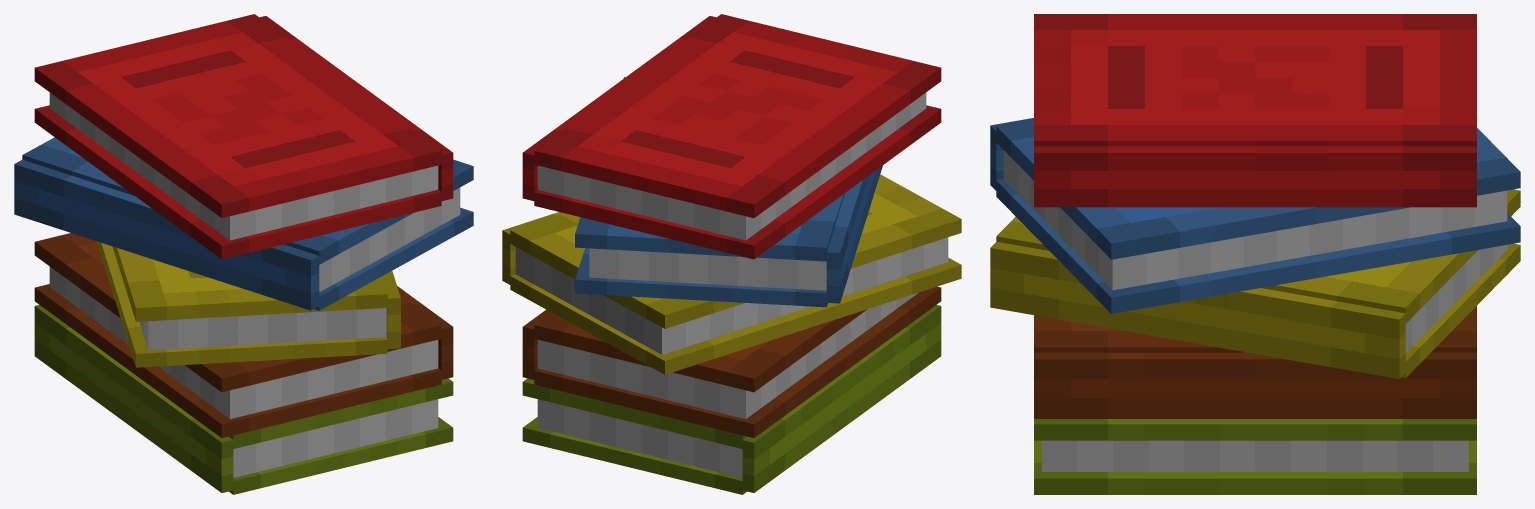
File: books.glb
3 renders of one model, left to right at view 1: azimuth 30°, elevation 25°; view 2: azimuth 150°, elevation 25°; view 3: azimuth 270°, elevation 25°, orthographic. The views are drawn at different scales.
Visible parts, largest first — view 1: a97b5972-1885-5dfc-1cd4-23fef182796c_3, aad3fd4e-fad0-5f00-a43b-05c0d2db1c12_4, c6a802c8-fc27-4c70-d7da-d765d4f95609_12, d42e0b9d-06c6-1f54-2575-b4977d464260_17, 98393dd3-45bb-6625-7c41-31f83be280f9_1, 121edf21-6fa9-25fc-c6bd-96b1828d26e6_19, c062d236-9276-9fc5-5c4b-7f556caee893_2, a7977a6c-cfcc-69fb-a5aa-bcc6b2773263_11, 13b3a0e8-063e-8dde-11ce-2f9e087bc196_18, 9303851b-aaac-106d-0ee0-b31c8177bbda_10, 60aa928b-8cf8-e269-2b2d-ef328b42e818_9, 5b12029c-da89-2c89-cbd8-f8571af06cd5_15 (+8 smaller); view 2: a97b5972-1885-5dfc-1cd4-23fef182796c_3, c6a802c8-fc27-4c70-d7da-d765d4f95609_12, a7977a6c-cfcc-69fb-a5aa-bcc6b2773263_11, 9303851b-aaac-106d-0ee0-b31c8177bbda_10, d42e0b9d-06c6-1f54-2575-b4977d464260_17, 60aa928b-8cf8-e269-2b2d-ef328b42e818_9, 98393dd3-45bb-6625-7c41-31f83be280f9_1, 121edf21-6fa9-25fc-c6bd-96b1828d26e6_19, c062d236-9276-9fc5-5c4b-7f556caee893_2, 0998e9b5-ea0e-b2e1-f5ab-27cb0c6867f7_6, 13b3a0e8-063e-8dde-11ce-2f9e087bc196_18, 5b12029c-da89-2c89-cbd8-f8571af06cd5_15 (+8 smaller); view 3: a97b5972-1885-5dfc-1cd4-23fef182796c_3, 01b6ab78-22b9-0d7b-1933-5f1de455909f_0, f123fd4e-85ce-8e2b-407d-d309e4c0e66a_16, b53aafe1-0edb-cdca-2f83-a37c1f2aae0b_8, 0998e9b5-ea0e-b2e1-f5ab-27cb0c6867f7_6, 5b12029c-da89-2c89-cbd8-f8571af06cd5_15, 63222293-9a0a-47c7-262a-eec22627751e_5, ab05ee45-c5ef-e0cb-41d3-7a9f9baed5b3_7, 63e5bf49-cf2e-3ee5-dfdc-a9b152449532_14, 55fe01e9-6ae7-f583-75c4-5840f4fc2684_13, a7977a6c-cfcc-69fb-a5aa-bcc6b2773263_11, 13b3a0e8-063e-8dde-11ce-2f9e087bc196_18 (+3 smaller).
Part boxes in pixels (x1,y1,x2,y2): a97b5972-1885-5dfc-1cd4-23fef182796c_3: (34,14,441,217); aad3fd4e-fad0-5f00-a43b-05c0d2db1c12_4: (14,159,319,310); c6a802c8-fc27-4c70-d7da-d765d4f95609_12: (34,305,233,492); d42e0b9d-06c6-1f54-2575-b4977d464260_17: (49,267,438,418); 98393dd3-45bb-6625-7c41-31f83be280f9_1: (34,105,441,259); 121edf21-6fa9-25fc-c6bd-96b1828d26e6_19: (34,284,441,437); c062d236-9276-9fc5-5c4b-7f556caee893_2: (49,92,438,240); a7977a6c-cfcc-69fb-a5aa-bcc6b2773263_11: (112,246,387,321); 13b3a0e8-063e-8dde-11ce-2f9e087bc196_18: (34,233,441,392); 9303851b-aaac-106d-0ee0-b31c8177bbda_10: (139,308,386,350); 60aa928b-8cf8-e269-2b2d-ef328b42e818_9: (96,241,387,367); 5b12029c-da89-2c89-cbd8-f8571af06cd5_15: (233,399,438,477); a97b5972-1885-5dfc-1cd4-23fef182796c_3: (534,14,941,217); c6a802c8-fc27-4c70-d7da-d765d4f95609_12: (742,305,941,492); a7977a6c-cfcc-69fb-a5aa-bcc6b2773263_11: (510,174,961,328); 9303851b-aaac-106d-0ee0-b31c8177bbda_10: (515,237,948,354); d42e0b9d-06c6-1f54-2575-b4977d464260_17: (537,292,918,418); 60aa928b-8cf8-e269-2b2d-ef328b42e818_9: (510,257,961,374); 98393dd3-45bb-6625-7c41-31f83be280f9_1: (534,105,941,259); 121edf21-6fa9-25fc-c6bd-96b1828d26e6_19: (534,286,941,437); c062d236-9276-9fc5-5c4b-7f556caee893_2: (537,92,926,240); 0998e9b5-ea0e-b2e1-f5ab-27cb0c6867f7_6: (589,248,826,290); 13b3a0e8-063e-8dde-11ce-2f9e087bc196_18: (534,309,867,392); 5b12029c-da89-2c89-cbd8-f8571af06cd5_15: (537,399,742,477); a97b5972-1885-5dfc-1cd4-23fef182796c_3: (1034,14,1476,146); 01b6ab78-22b9-0d7b-1933-5f1de455909f_0: (1034,146,1476,207); f123fd4e-85ce-8e2b-407d-d309e4c0e66a_16: (1034,352,1476,418); b53aafe1-0edb-cdca-2f83-a37c1f2aae0b_8: (990,241,1405,378); 0998e9b5-ea0e-b2e1-f5ab-27cb0c6867f7_6: (1003,150,1507,290); 5b12029c-da89-2c89-cbd8-f8571af06cd5_15: (1042,440,1468,471); 63222293-9a0a-47c7-262a-eec22627751e_5: (996,179,1520,313); ab05ee45-c5ef-e0cb-41d3-7a9f9baed5b3_7: (996,119,1520,259); 63e5bf49-cf2e-3ee5-dfdc-a9b152449532_14: (1034,440,1476,494); 55fe01e9-6ae7-f583-75c4-5840f4fc2684_13: (1034,419,1476,440); a7977a6c-cfcc-69fb-a5aa-bcc6b2773263_11: (996,189,1520,323); 13b3a0e8-063e-8dde-11ce-2f9e087bc196_18: (1034,306,1476,352).
Size of the model in its own units: 4.53 by 3.76 by 5.21.
1 material, 1 textured.
